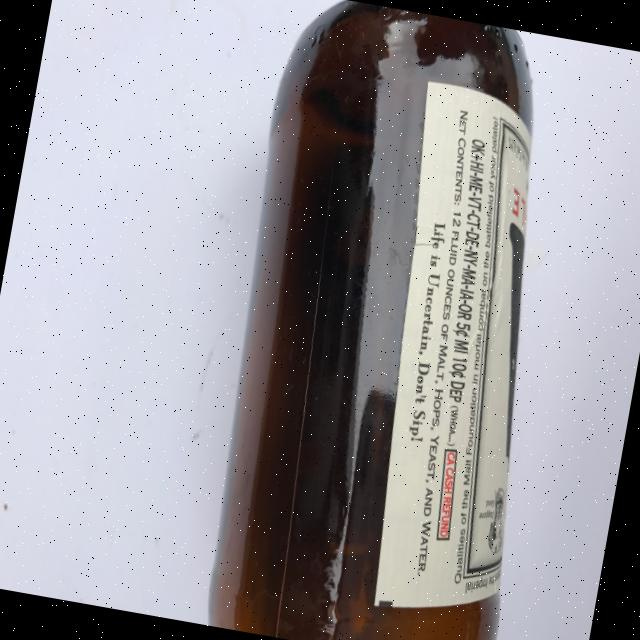glass: (188, 0, 585, 640)
